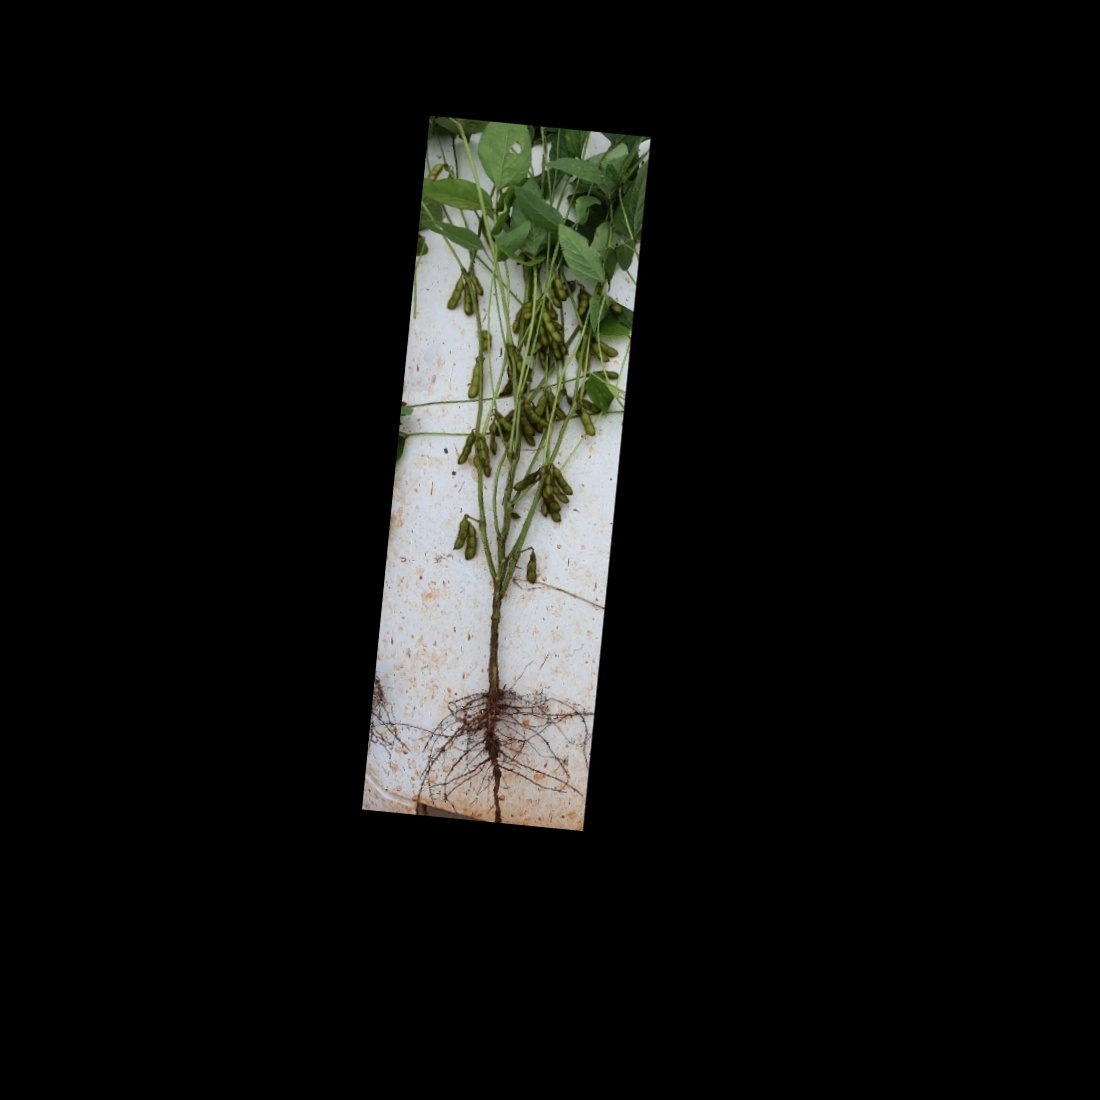pod: (536, 302, 569, 346), (543, 464, 580, 501), (515, 400, 557, 430), (459, 356, 486, 401), (508, 463, 544, 494), (455, 424, 478, 468), (543, 470, 572, 504), (441, 275, 465, 314), (461, 521, 482, 564), (446, 518, 471, 551), (577, 409, 602, 442), (522, 550, 544, 585), (549, 273, 570, 304)
soy: (368, 118, 642, 805)
